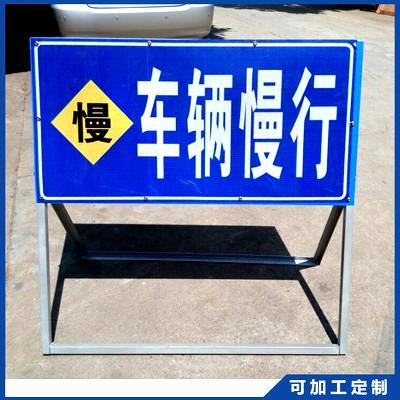sign: (34, 42, 356, 202)
